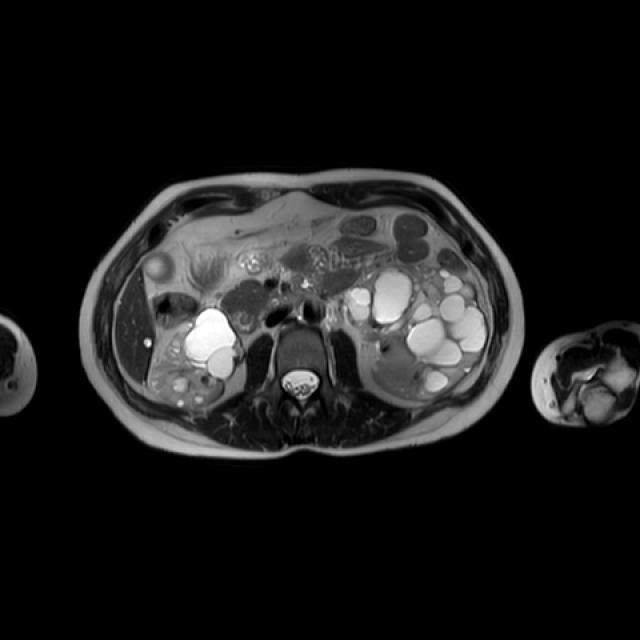sag: (149, 307, 244, 411)
sol: (343, 262, 489, 402)
